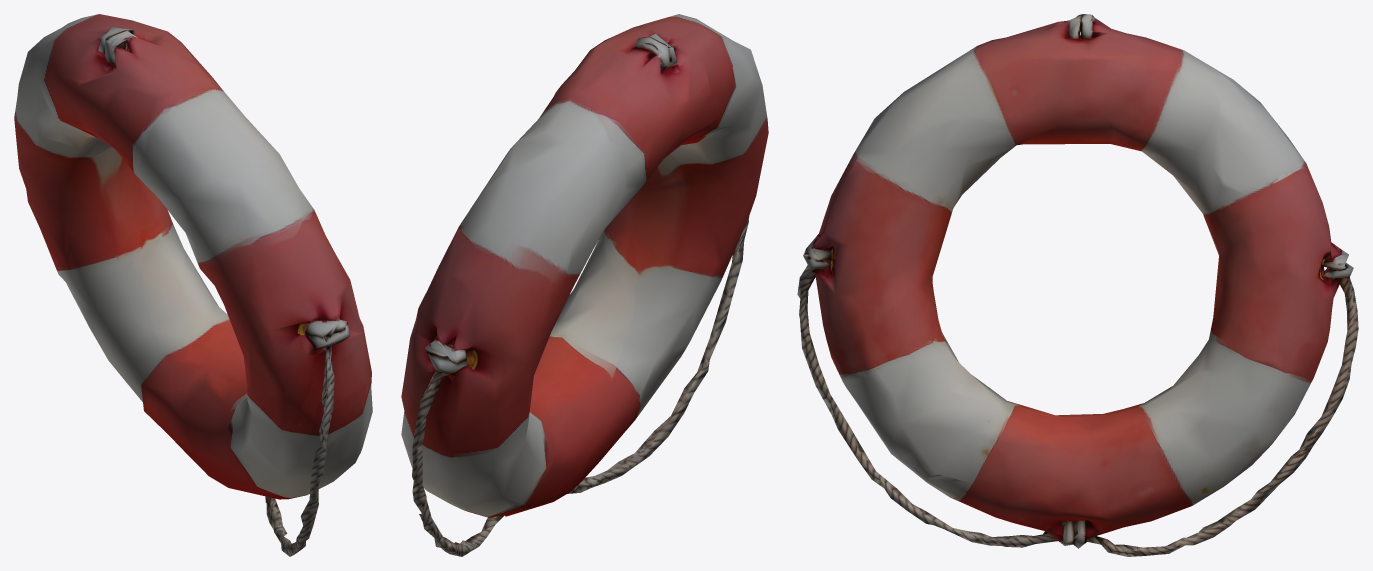
Rendered from miss-lifebuoy.glb.
3 renders of one model, left to right at view 1: azimuth 30°, elevation 25°; view 2: azimuth 150°, elevation 25°; view 3: azimuth 270°, elevation 25°, orthographic. The views are drawn at different scales.
Parts seen in each view (by area): view 1: tripo_node_85470b55-32cb-4faa-8870-8e9872003bdc; view 2: tripo_node_85470b55-32cb-4faa-8870-8e9872003bdc; view 3: tripo_node_85470b55-32cb-4faa-8870-8e9872003bdc.
Boxes of the visible parts, bbox=[...] form: tripo_node_85470b55-32cb-4faa-8870-8e9872003bdc: bbox=[14, 14, 372, 556]; tripo_node_85470b55-32cb-4faa-8870-8e9872003bdc: bbox=[401, 14, 768, 556]; tripo_node_85470b55-32cb-4faa-8870-8e9872003bdc: bbox=[797, 14, 1358, 556].
Size of the model in its own units: 0.4238 by 0.9397 by 1.
1 material, 1 textured.
